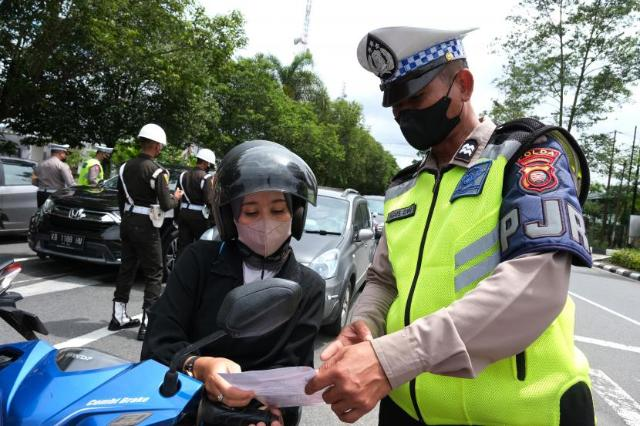helm: (208, 138, 321, 255)
motor: (1, 276, 307, 426)
